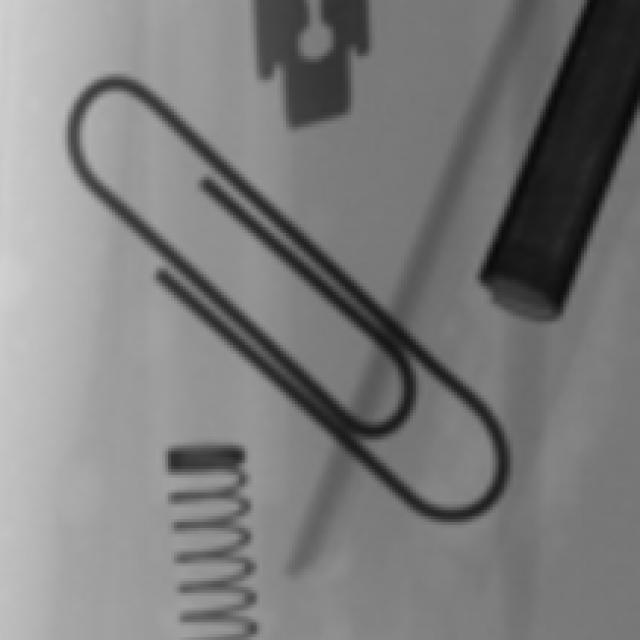BLADE: (243, 1, 397, 159)
